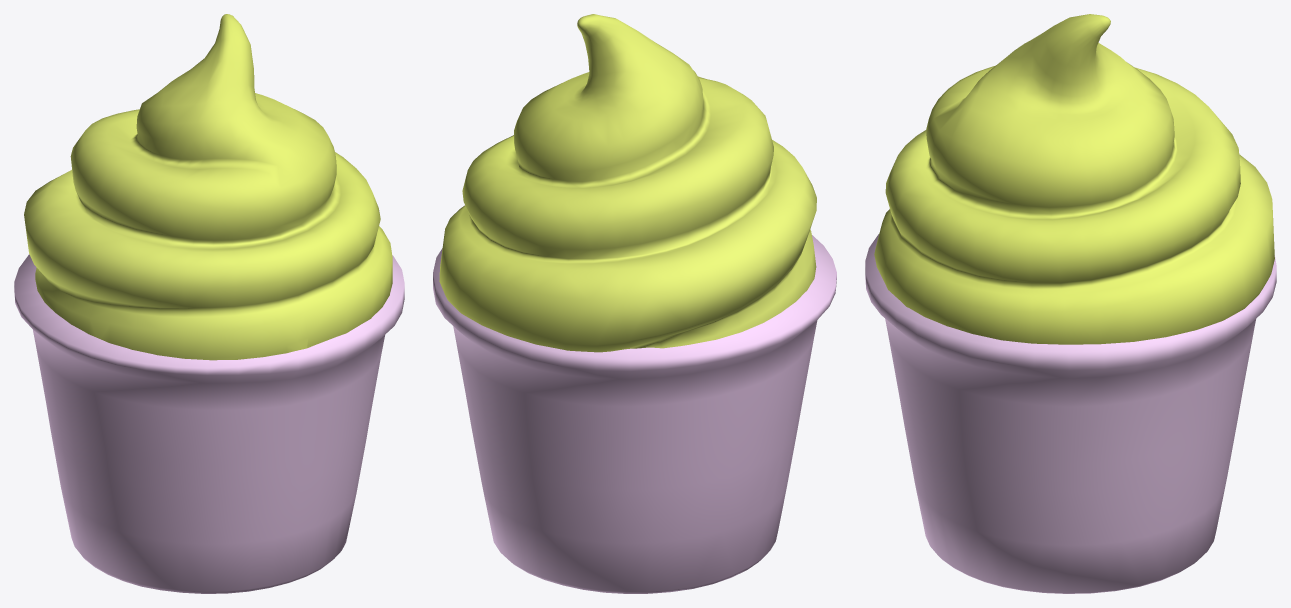
Rendered from IceCream_0001_0012.fbx.
The picture shows the model from 3 angles, left to right: view 1: azimuth 30°, elevation 25°; view 2: azimuth 150°, elevation 25°; view 3: azimuth 270°, elevation 25°; orthographic projection. The views are drawn at different scales.
Parts seen in each view (by area): view 1: Ice_0001_0012; view 2: Ice_0001_0012; view 3: Ice_0001_0012.
Boxes of the visible parts, <box> form: Ice_0001_0012: <box>14,14,404,593</box>; Ice_0001_0012: <box>433,14,836,593</box>; Ice_0001_0012: <box>865,14,1276,593</box>.
Bounding box in the file's own units: 0.0832 × 0.1198 × 0.0826.
Materials: 1 (1 with a texture image).
